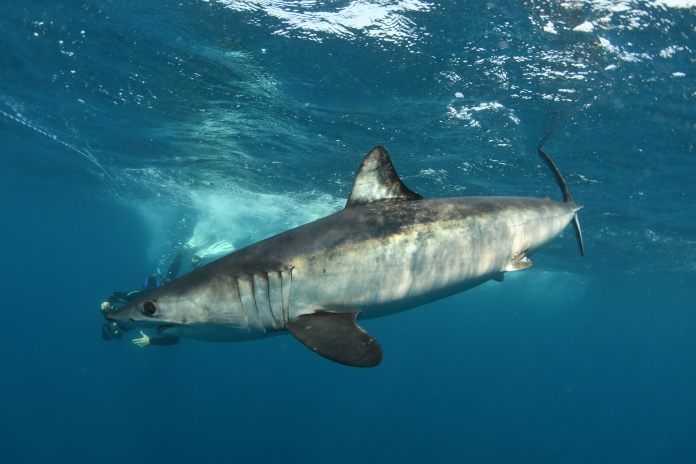Mako: (105, 140, 596, 368)
